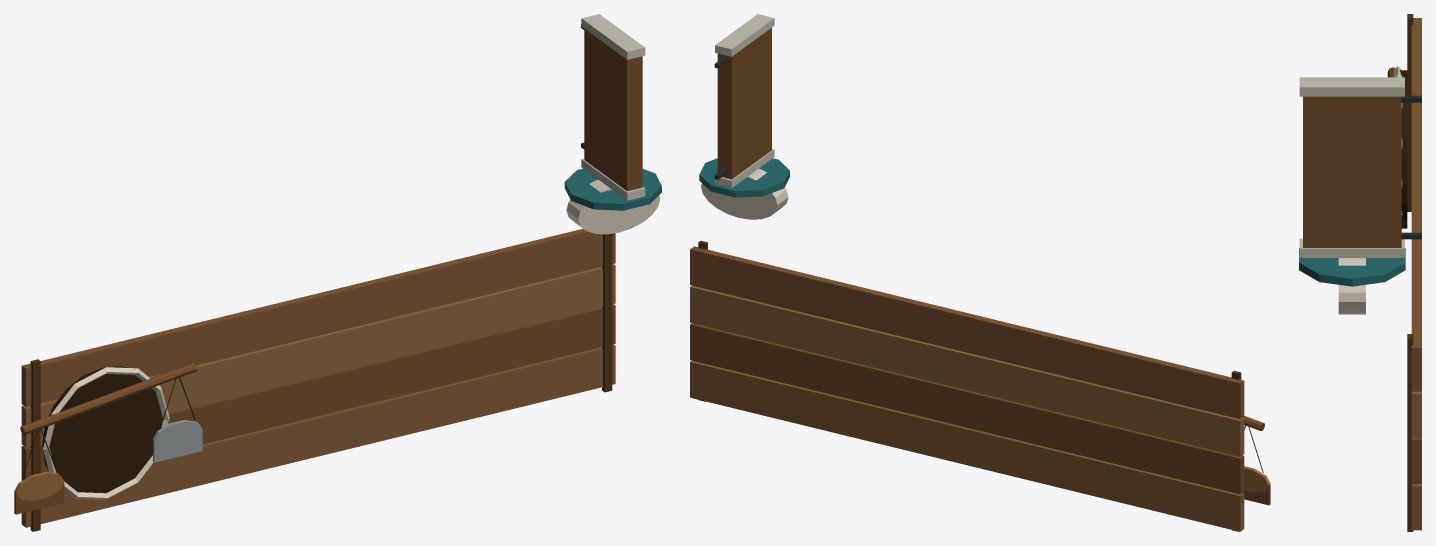
File: bang_pho_ganh_chu_sau_48.glb
3 renders of one model, left to right at view 1: azimuth 30°, elevation 25°; view 2: azimuth 150°, elevation 25°; view 3: azimuth 270°, elevation 25°, orthographic. The views are drawn at different scales.
Visible parts, largest first — view 1: bang_pho_ganh_chu_sau_48; view 2: bang_pho_ganh_chu_sau_48; view 3: bang_pho_ganh_chu_sau_48.
Boxes of the visible parts, x1,y1,x2,y2 form: bang_pho_ganh_chu_sau_48: (14,14,661,531); bang_pho_ganh_chu_sau_48: (690,14,1270,531); bang_pho_ganh_chu_sau_48: (1299,14,1421,531).
Size of the model in its own units: 4.86 by 2.84 by 0.7238.
